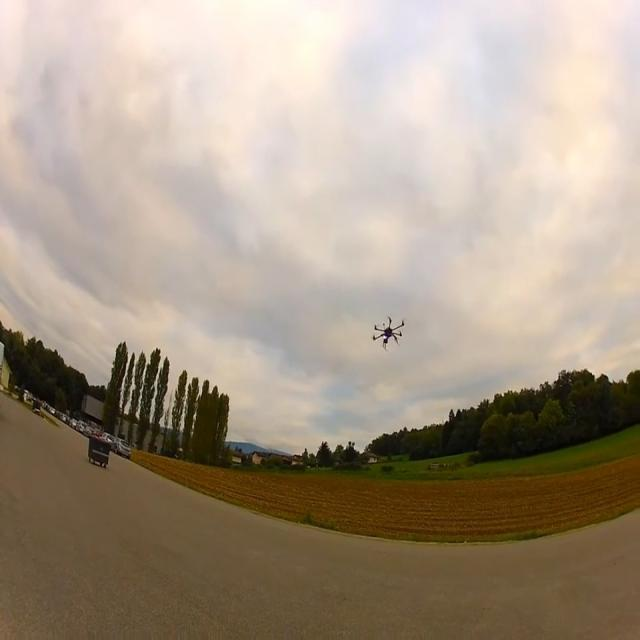drone: (372, 316, 404, 350)
